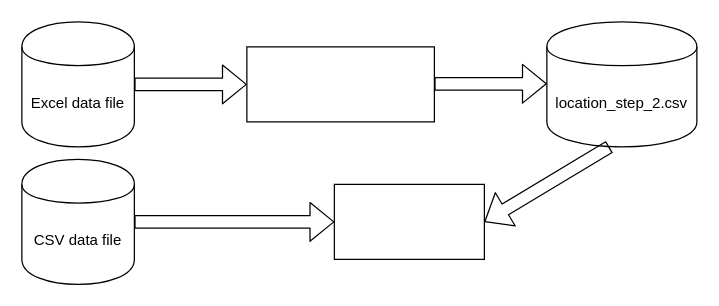
Some shapes in this 719 by 306 pixel diagram are drawn without their labels. The shapes that lost their labels are listed below. From the top down, each one's centre as x and y in pixels, then its label:
At point (340, 84): "data_preparation.ipynb".
At point (408, 221): "Microsoft Power BI".
